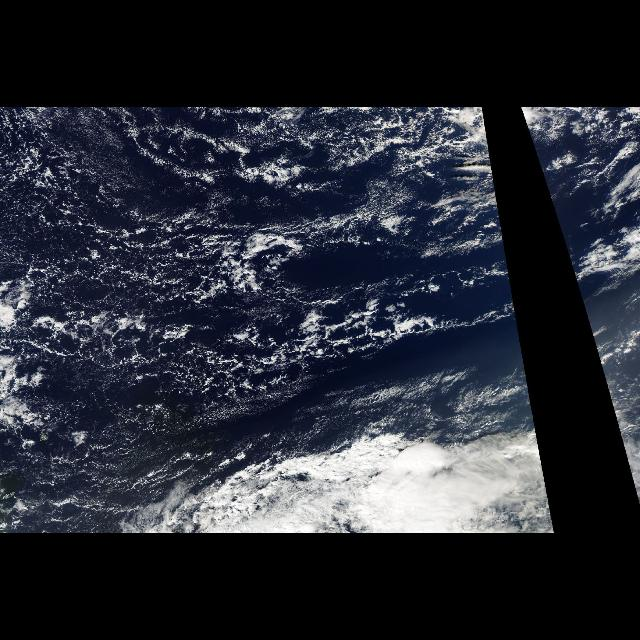Gravel: (37, 181, 533, 413)
